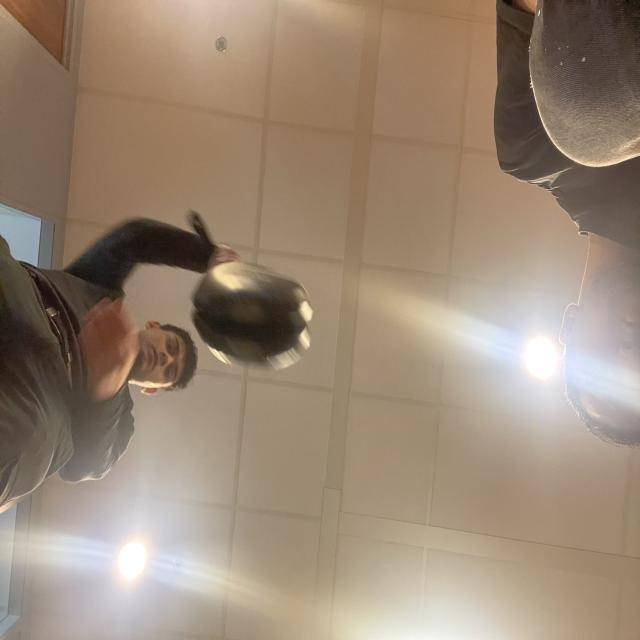paddle: (215, 252, 304, 366)
